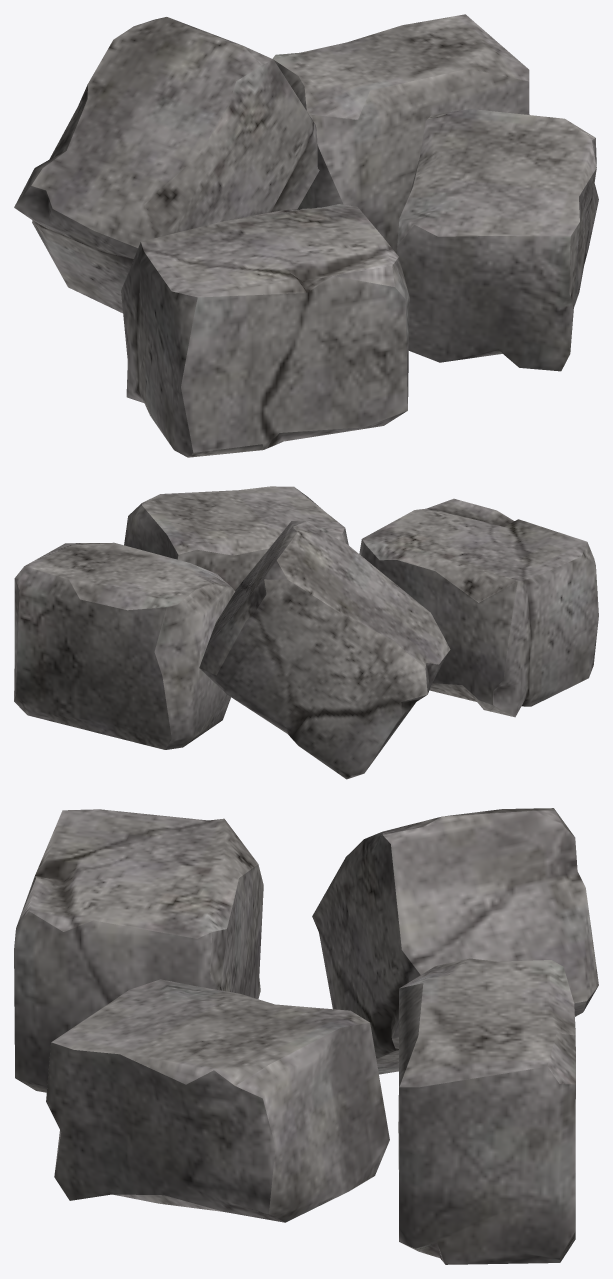
The model's file is eso_ss14_ruins4-transformed.glb.
The picture shows the model from 3 angles, top to bottom: view 1: azimuth 30°, elevation 25°; view 2: azimuth 150°, elevation 25°; view 3: azimuth 270°, elevation 25°; orthographic projection. The views are drawn at different scales.
Visible parts, largest first — view 1: default; view 2: default; view 3: default.
Part boxes in pixels (x1,y1,x2,y2): default: [14, 14, 598, 457]; default: [14, 486, 598, 779]; default: [14, 808, 598, 1264].
Bounding box in the file's own units: 4.34 × 2.12 × 3.85.
Materials: 1 (1 with a texture image).
